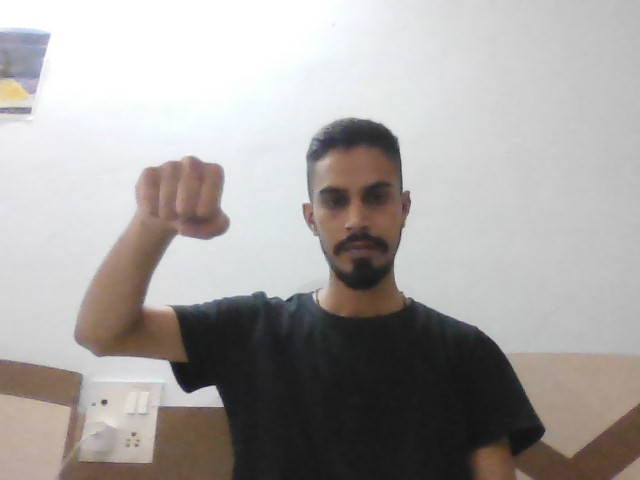Yes: (134, 152, 236, 246)
